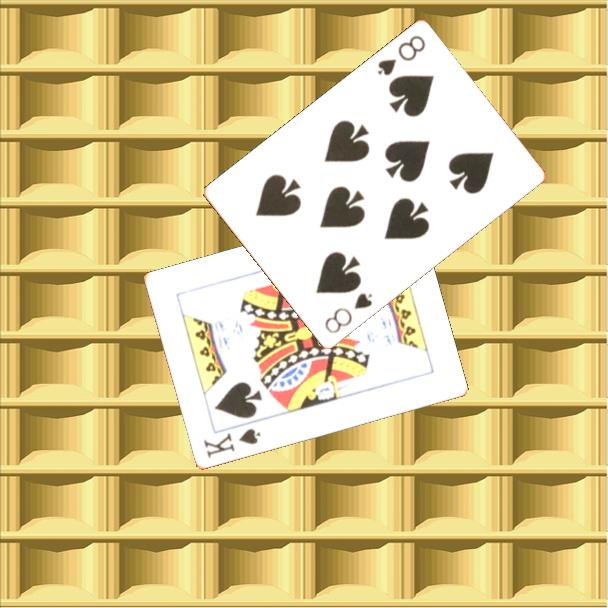s08: (321, 289, 375, 337), (374, 32, 428, 79)
s13: (200, 425, 263, 461)
